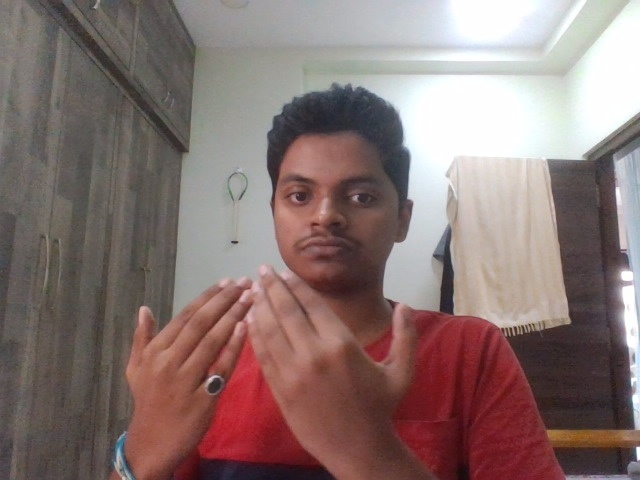Thank You: (83, 246, 474, 480)
